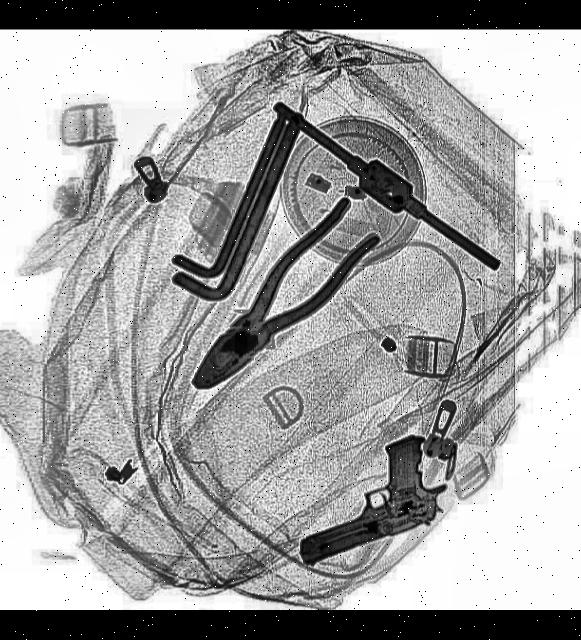Gun: (274, 434, 454, 570)
Pliers: (170, 196, 386, 412)
